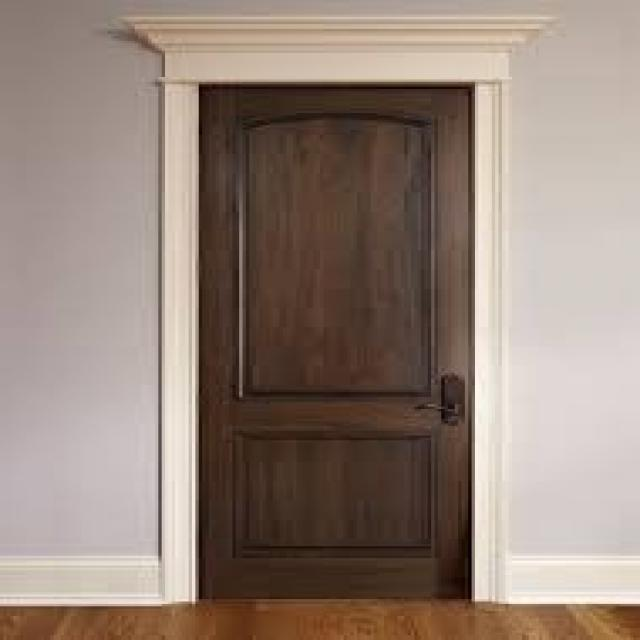Door: (195, 79, 482, 599)
